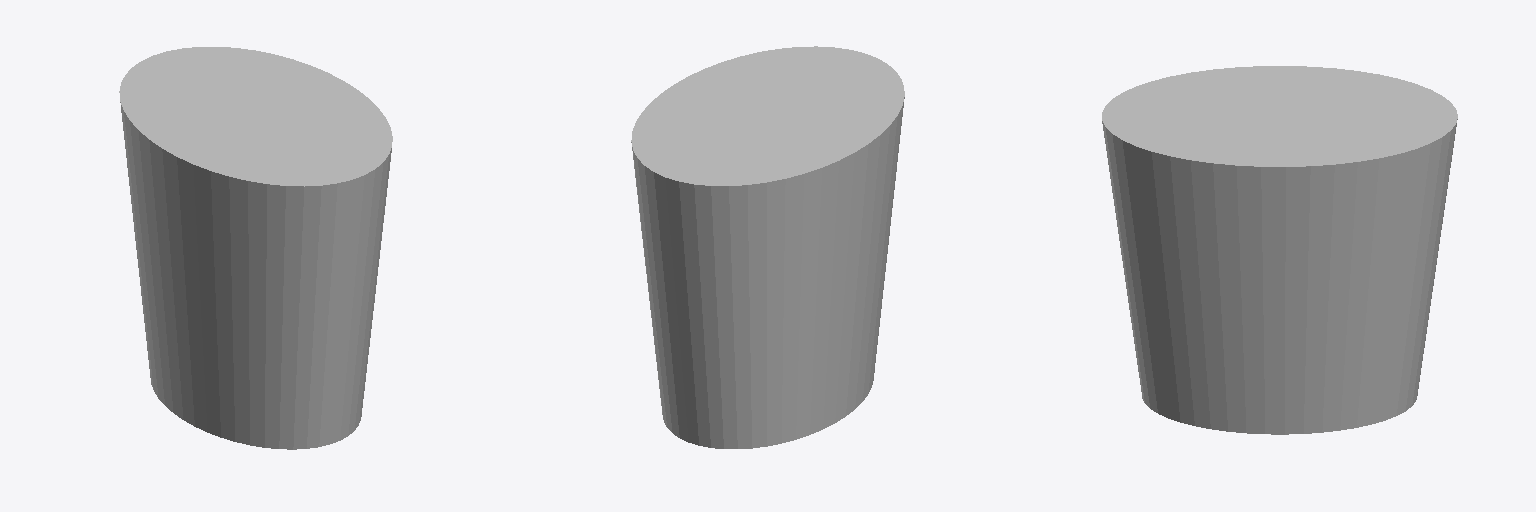
File: Upper Torso.obj
The picture shows the model from 3 angles: view 1: azimuth 30°, elevation 25°; view 2: azimuth 150°, elevation 25°; view 3: azimuth 270°, elevation 25°; orthographic projection.
Parts seen in each view (by area): view 1: Upper_Torso_Sphere.041; view 2: Upper_Torso_Sphere.041; view 3: Upper_Torso_Sphere.041.
Part boxes in pixels (x1,y1,x2,y2): Upper_Torso_Sphere.041: (119,47,392,449); Upper_Torso_Sphere.041: (631,46,904,448); Upper_Torso_Sphere.041: (1102,66,1457,434).
Size of the model in its own units: 1.48 by 1.9 by 2.2.